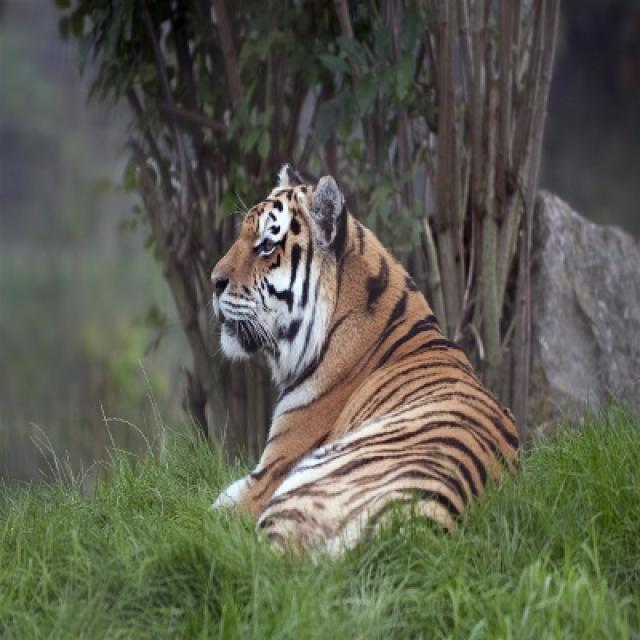Tiger: (206, 159, 526, 568)
